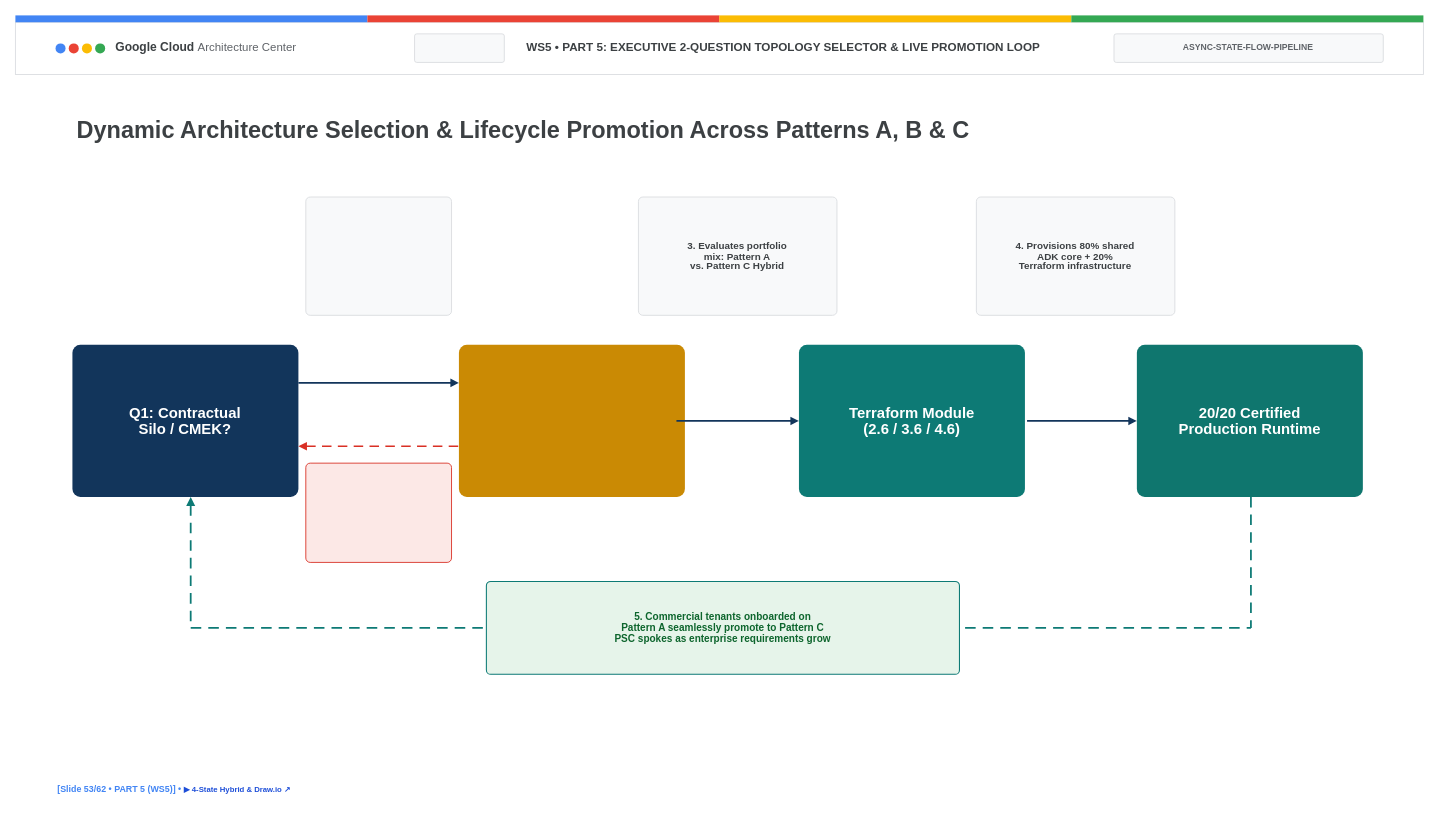
Image size: 1439x816. Some labels were removed from this diagram. The shapes that lost their labels are listed below. From the top down, each one's centre as x and y in pixels, then its label:
At (x=459, y=47): "WS5".
At (x=378, y=255): "1. Evaluates regulatory & blast-radius mandate".
At (x=571, y=420): "Q2: Single Hub + Live Upgrades?".
At (x=378, y=512): "2. If Q1=Yes & single-org, deploys Pattern B Sovereign Silo".
